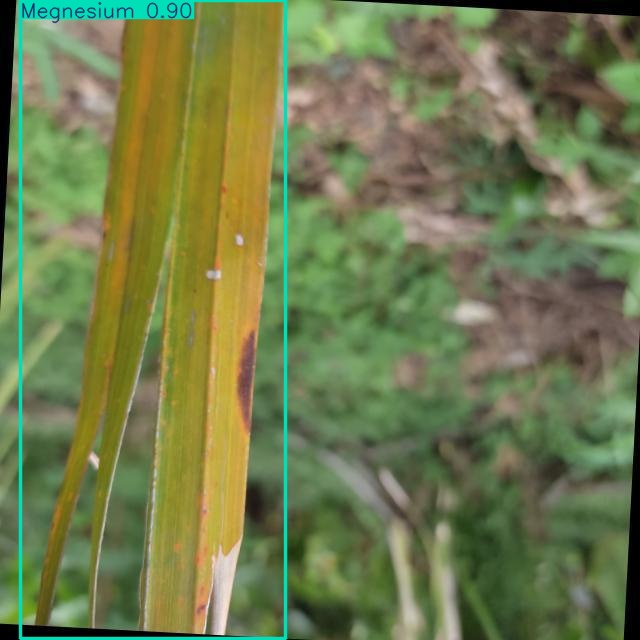Megnesium: (21, 0, 286, 638)
